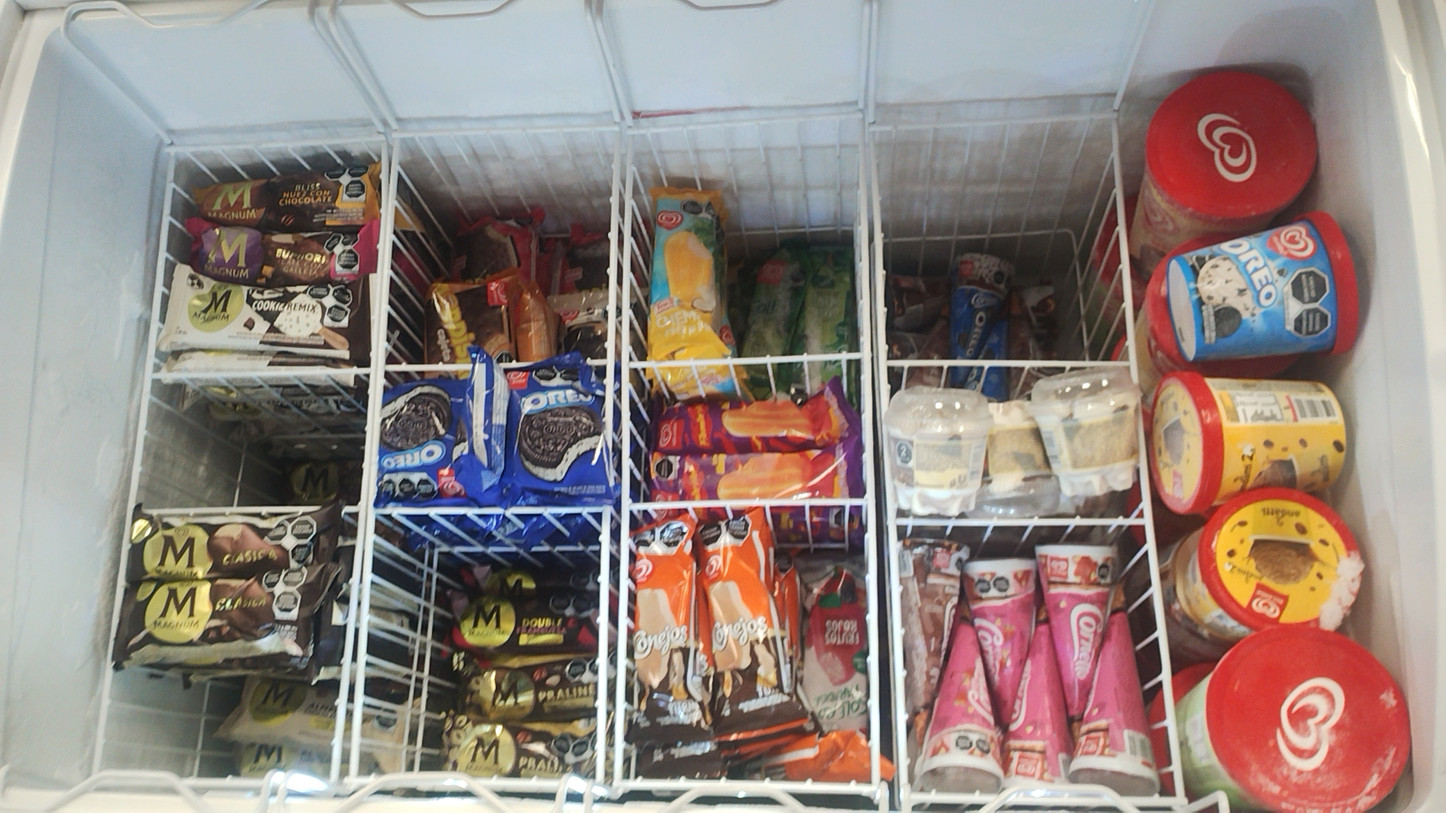rejilla: (94, 153, 176, 774), (332, 369, 378, 779), (1139, 418, 1185, 802), (860, 120, 880, 791), (350, 371, 383, 776), (885, 443, 909, 791), (1114, 120, 1138, 382), (378, 139, 400, 372), (870, 132, 887, 411), (628, 113, 862, 133), (607, 133, 620, 442), (871, 114, 1115, 129), (616, 503, 628, 780), (373, 146, 388, 366), (598, 508, 610, 780), (172, 135, 384, 150), (629, 354, 864, 367), (394, 126, 617, 136), (630, 500, 867, 508), (152, 368, 370, 376), (625, 136, 633, 321), (375, 508, 603, 512), (144, 507, 319, 512), (895, 520, 1147, 523), (886, 362, 1128, 365), (624, 322, 628, 502), (385, 364, 471, 369), (502, 363, 528, 366), (589, 360, 607, 364), (347, 507, 357, 510)
